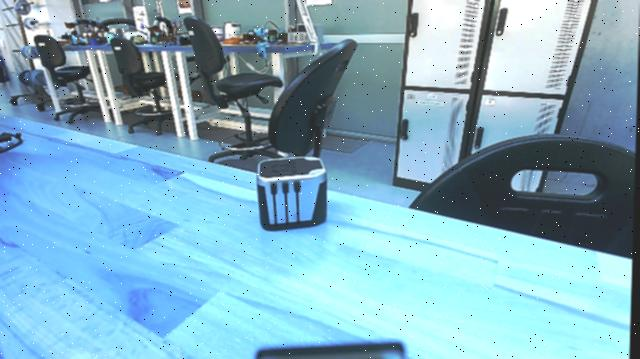adapter: (255, 154, 332, 232)
